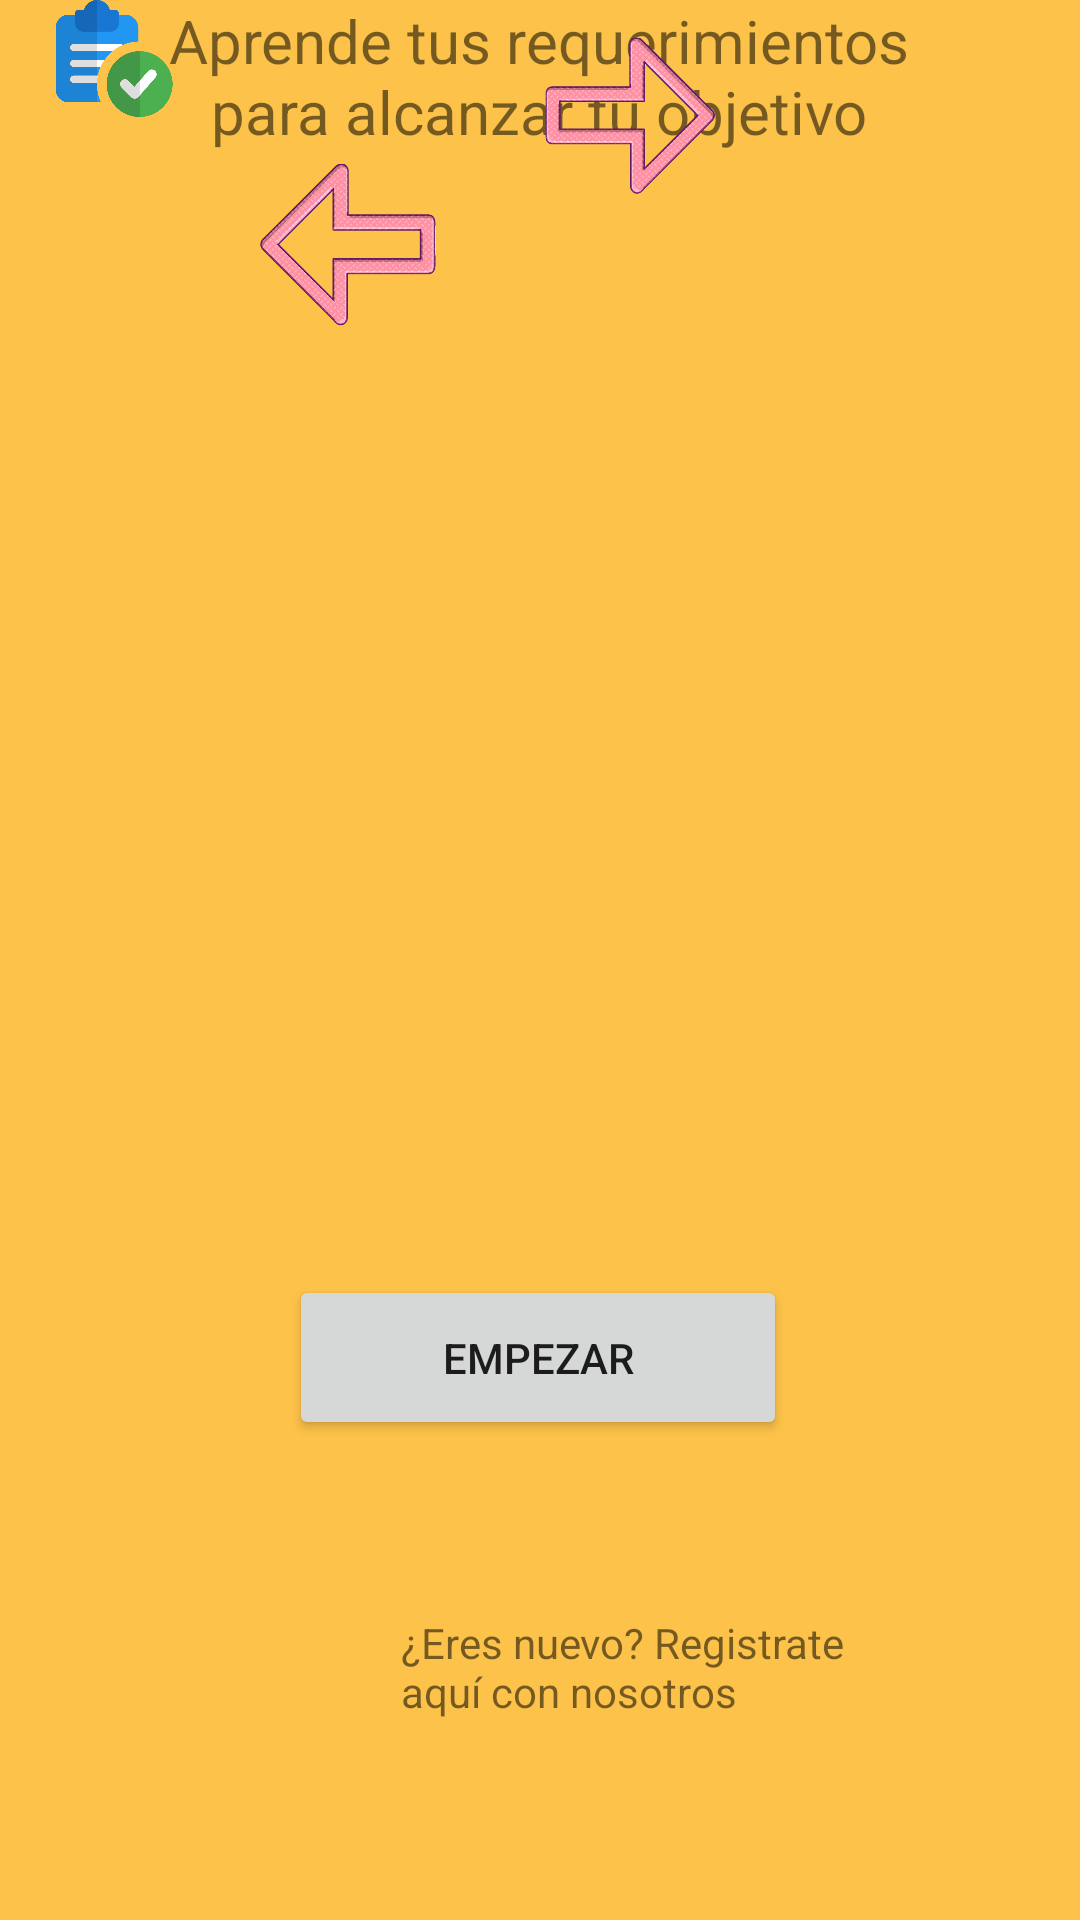

Point at icon controls on the screen. Image size 1080 x 1920, points as [x,y].
imagenflecha: [348,172]
